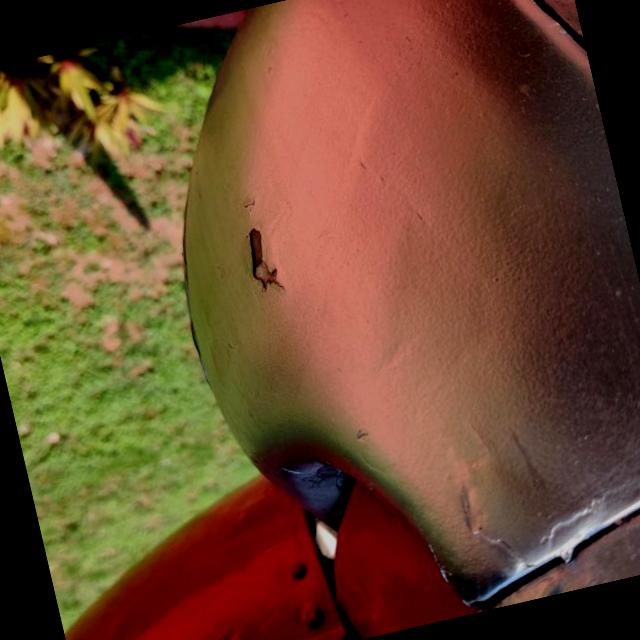paint-off: (212, 208, 304, 313)
